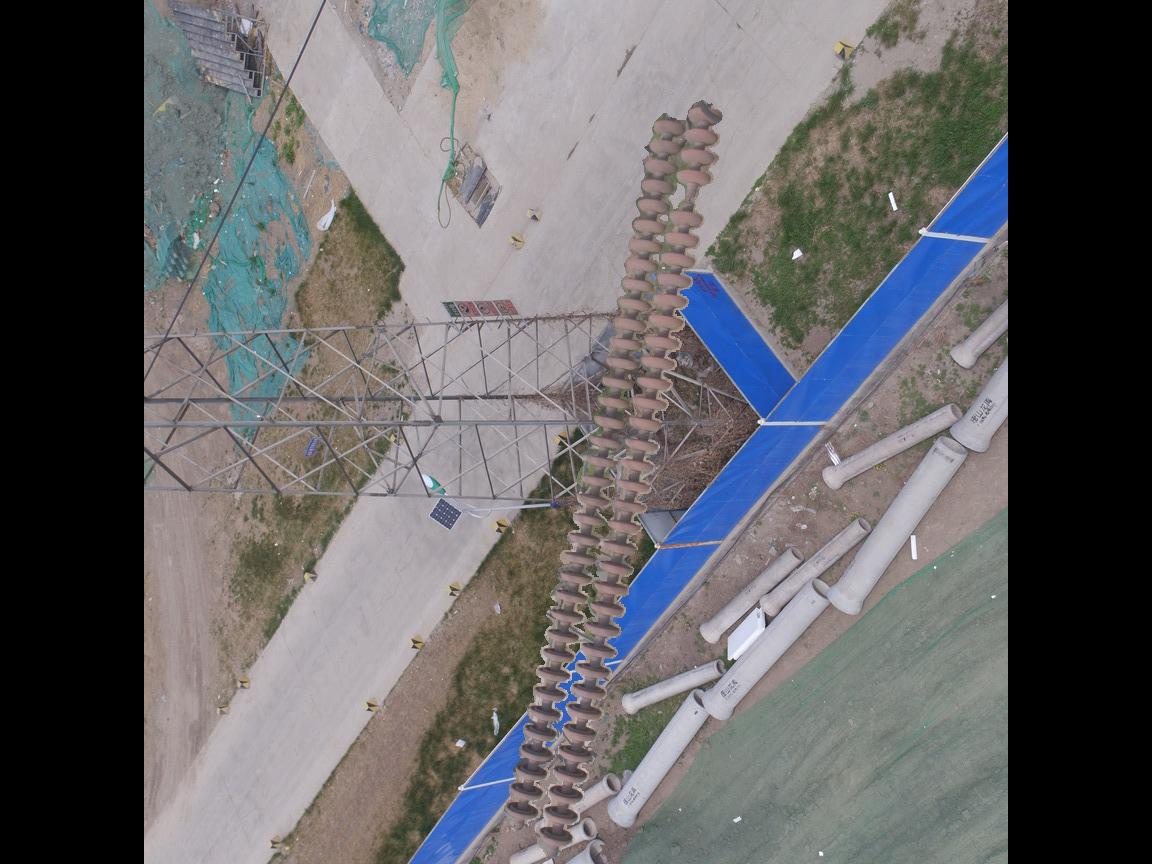insulator: (498, 94, 729, 854)
insulator_stringdrop: (663, 163, 716, 234)
